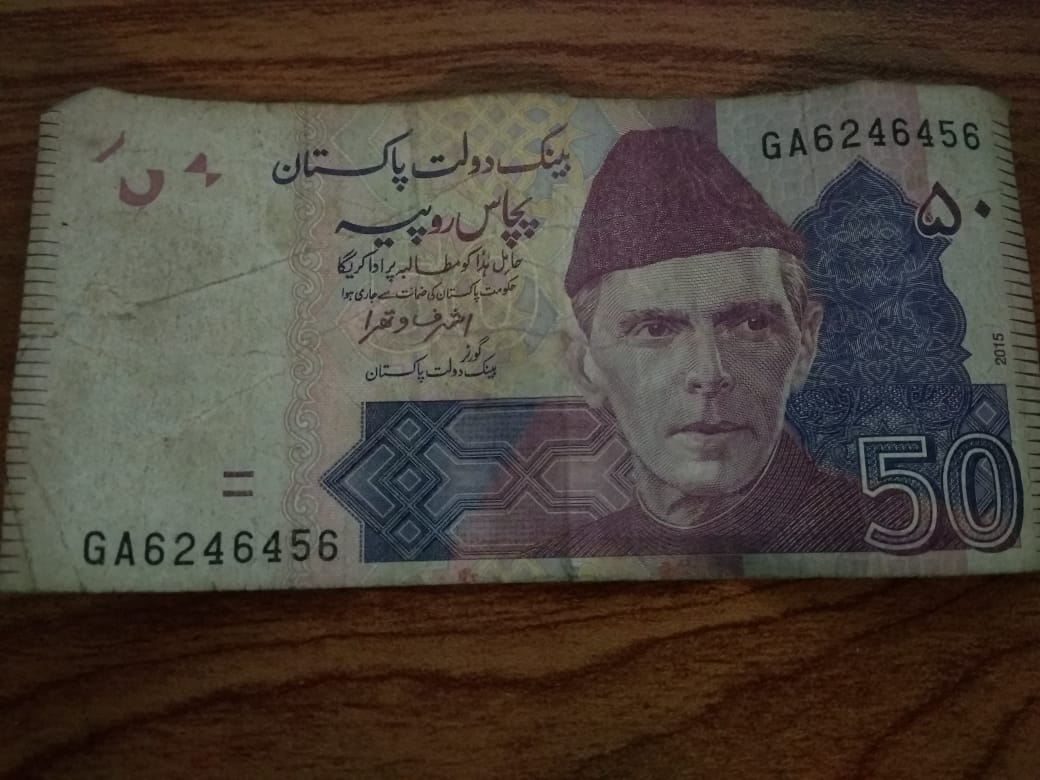50 rupee: (29, 78, 1034, 616)
